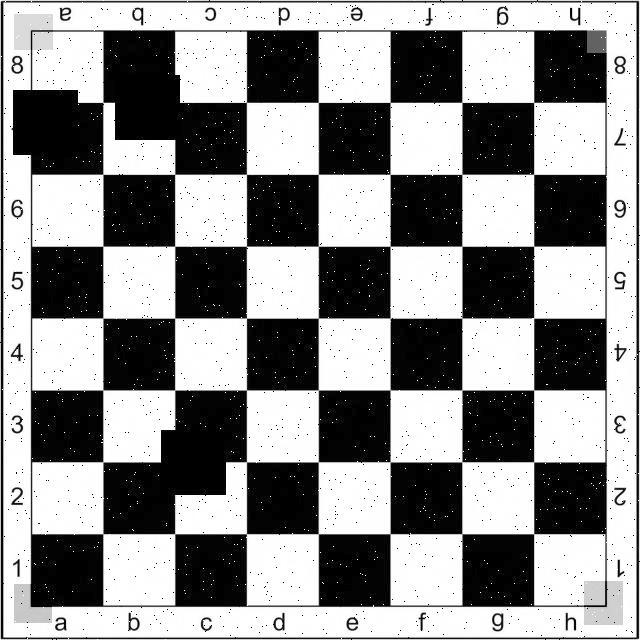chess-table-corners: (584, 581, 623, 625), (14, 584, 52, 623), (587, 13, 624, 53), (14, 14, 53, 50)
